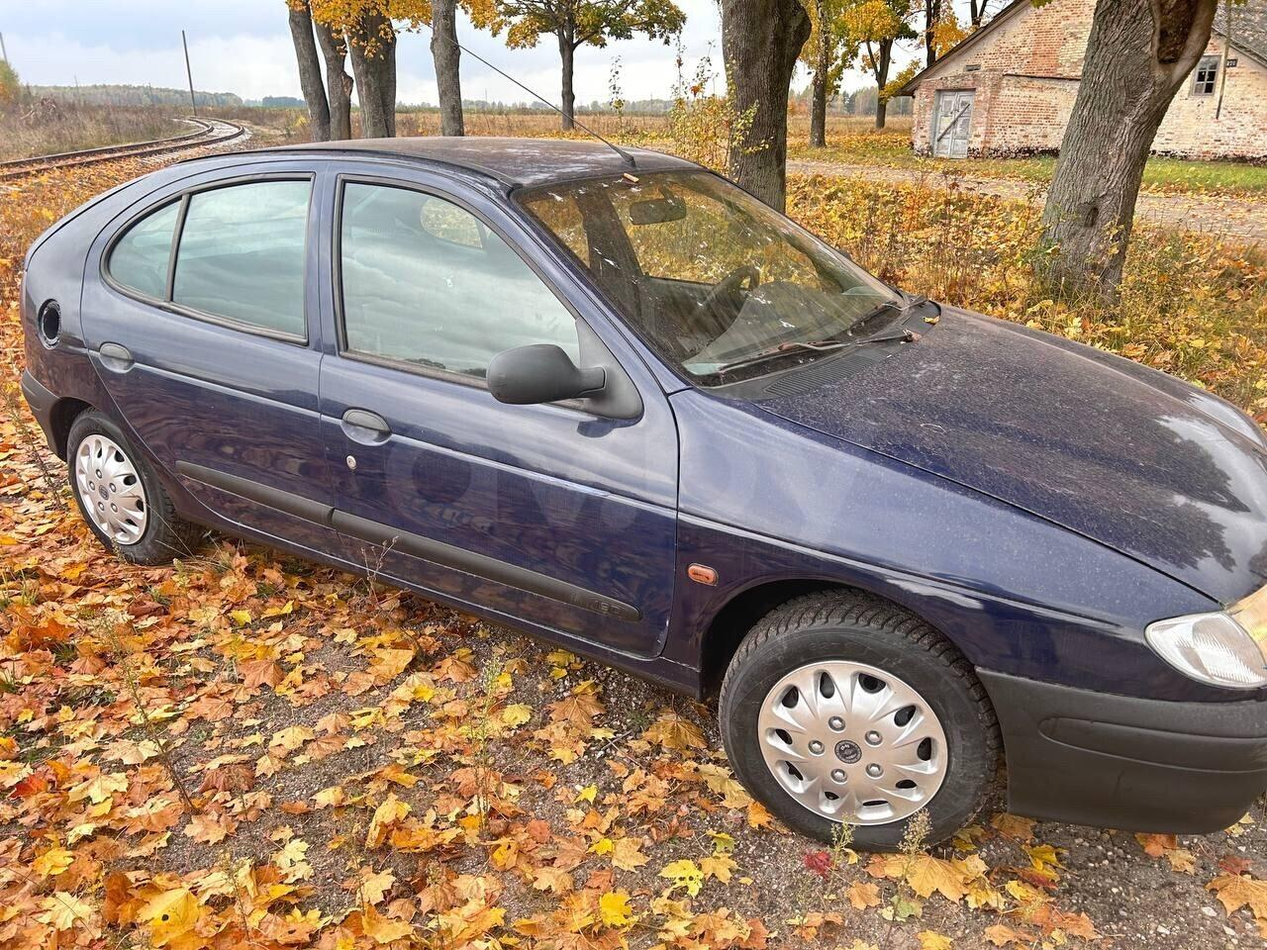Megane_1995-1999: (16, 127, 1267, 862)
